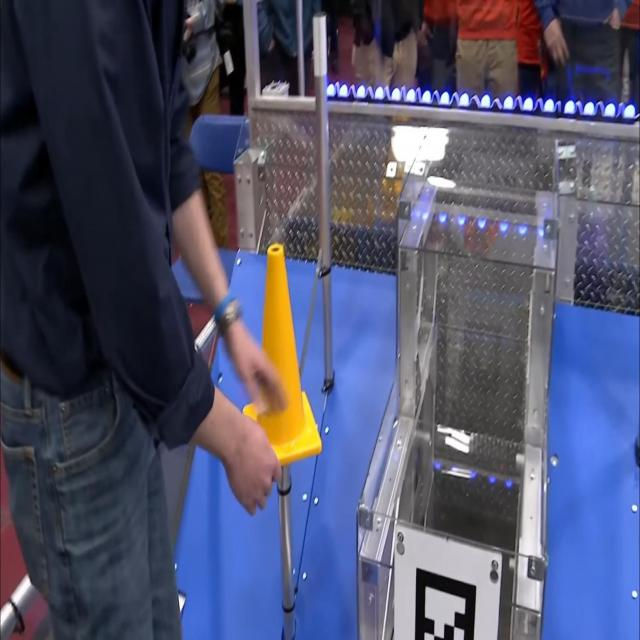frc_cone: (238, 239, 327, 478)
